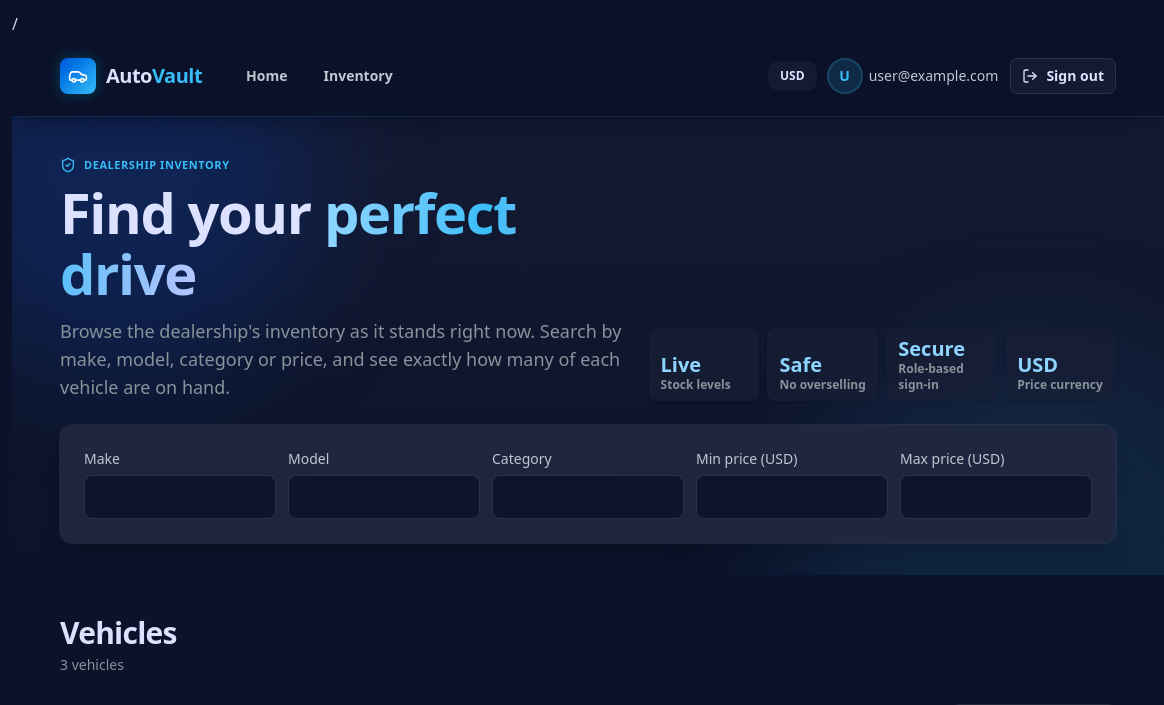
searching the vehicles › prices › explains a price that is not an amount, and does not send it
In the field labelled "Min price (USD)": (792, 497) [696,475,888,519], type "abc"
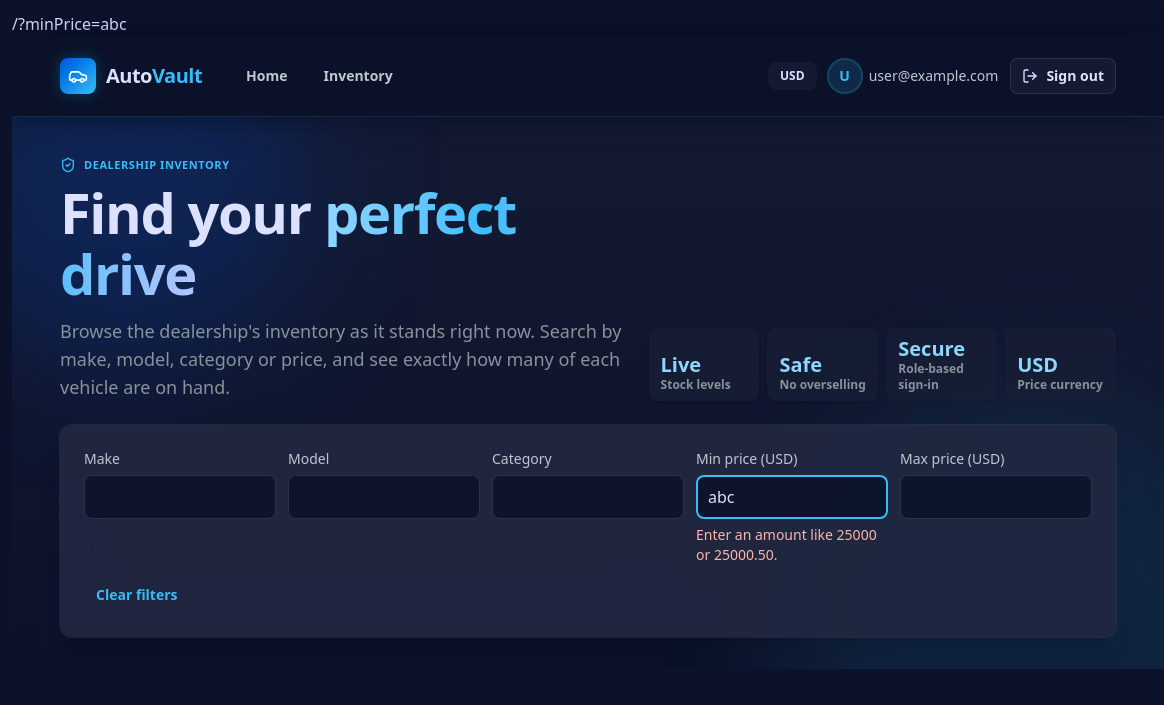
Expected: the text "Enter an amount like 25000 or 25000.50." is shown, [696,525,888,565]
